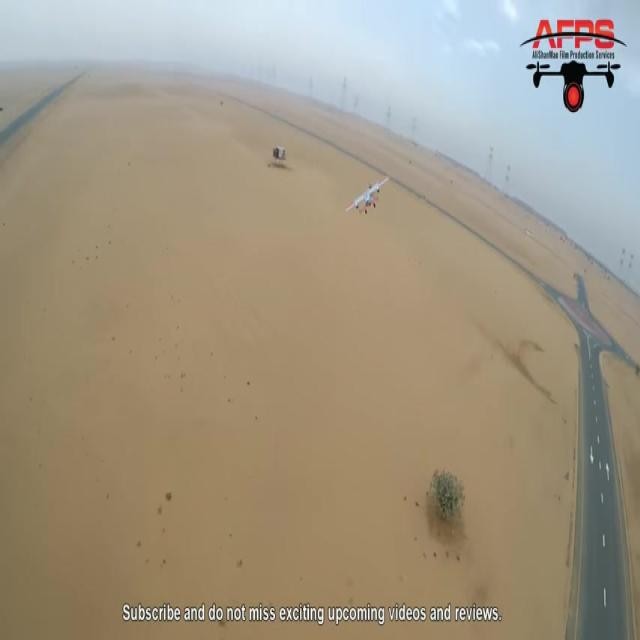iha: (345, 176, 390, 215)
